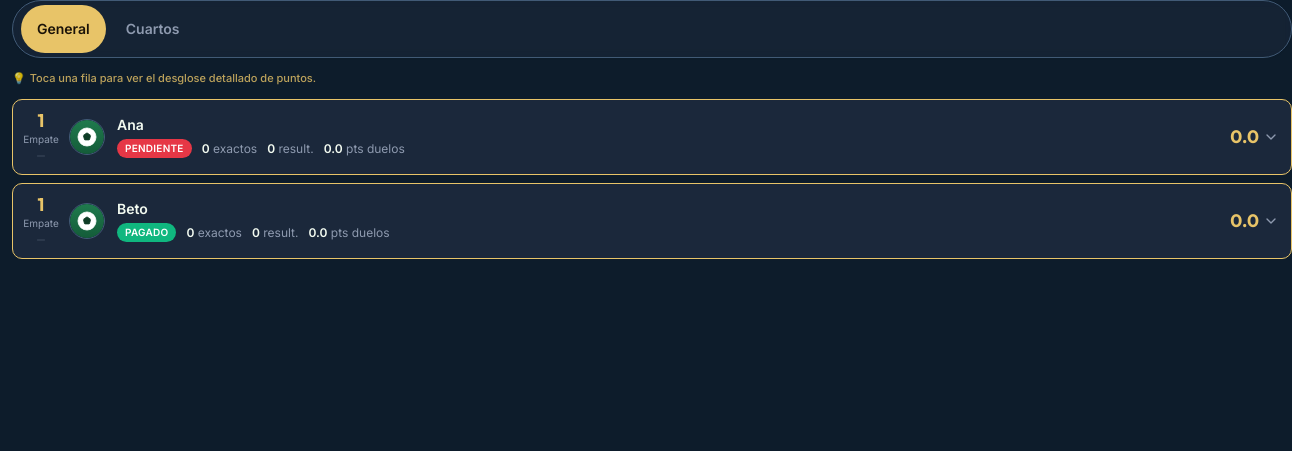
Test: StandingsTable › Accordion – desglose de puntos › muestra la tanda de penales al lado del resultado real en el desglose si el partido finalizó empatado con penales
Click the 1st button with test id "standings-row-toggle" at [41, 138], box [25,112,1279,162]
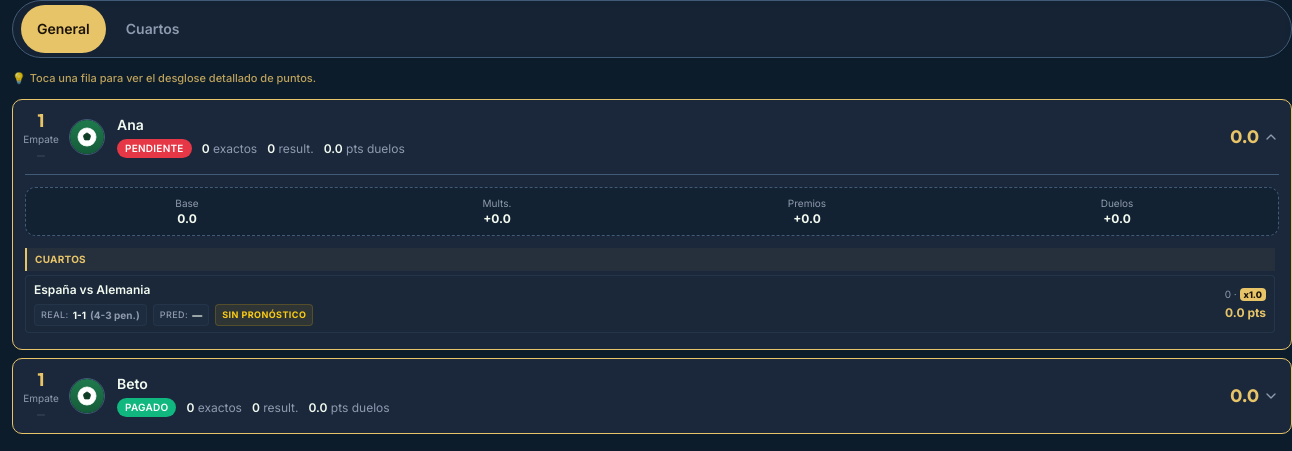
Expected: the text "España vs Alemania" is shown, [34,282,150,296]
Expected: the text "Real:" is shown, [41,306,69,322]
Expected: the text "(4-3 pen.)" is shown, [90,308,140,320]
